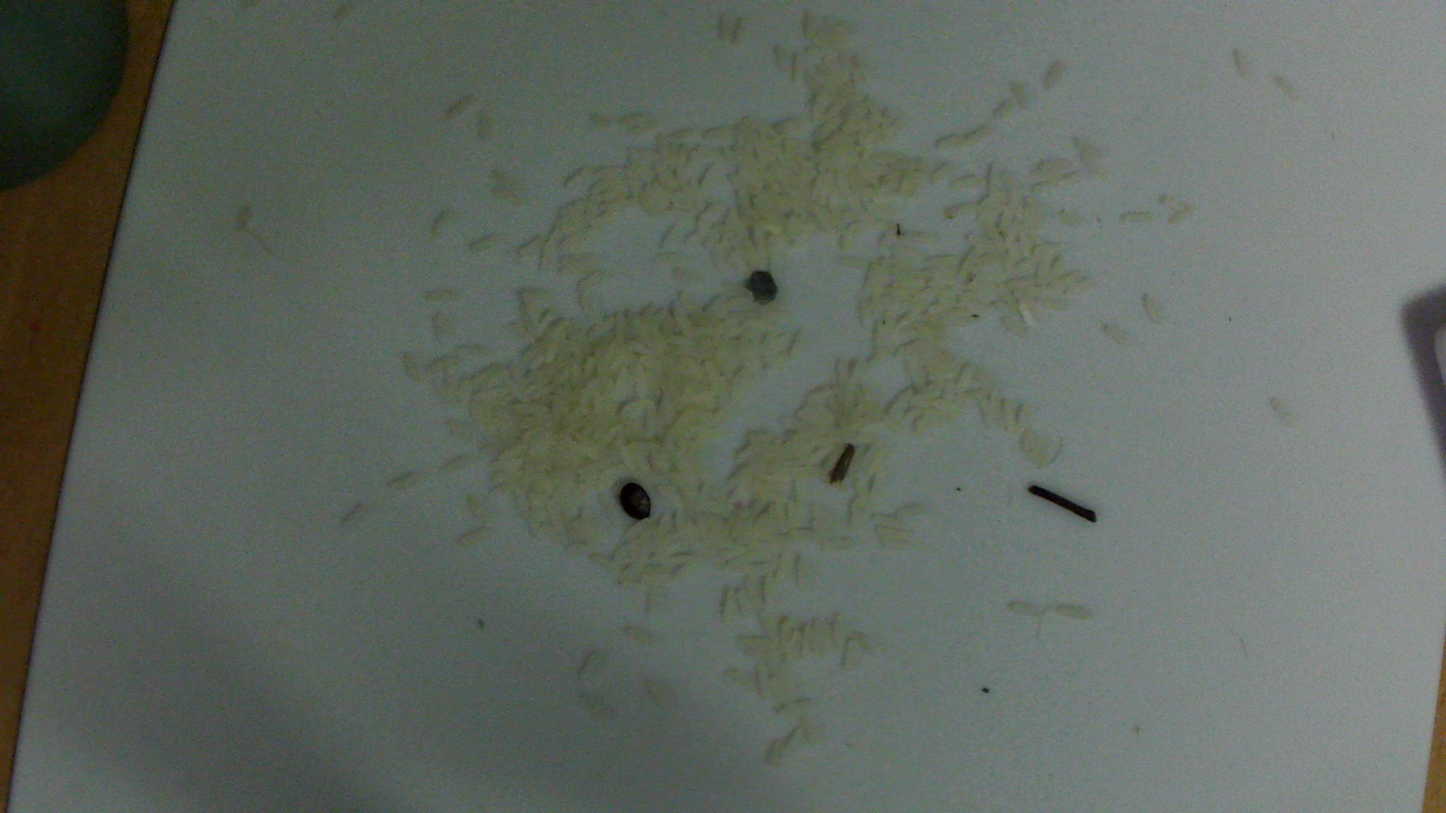Rice weevil: (977, 678, 996, 706), (949, 479, 967, 501), (966, 310, 984, 326)
Rice_Weevil: (1022, 474, 1112, 535)
WatermelonSeeds: (617, 474, 658, 526), (885, 219, 912, 241)
rock: (742, 262, 787, 313)
wood: (824, 432, 856, 489)
